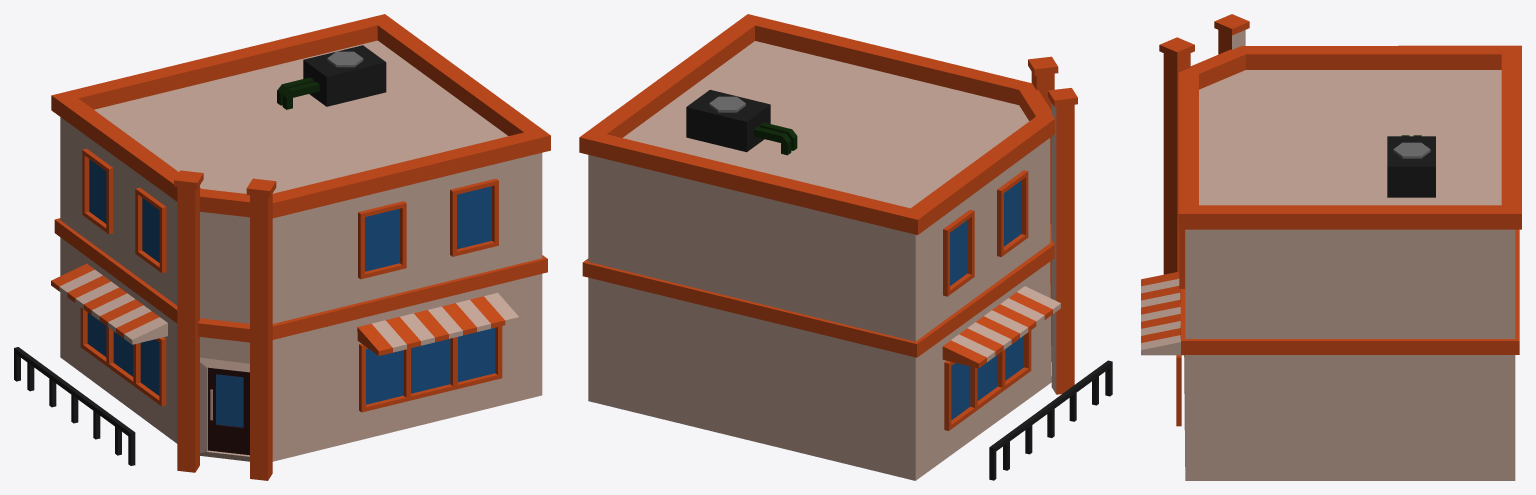
3 renders of one model, left to right at view 1: azimuth 30°, elevation 25°; view 2: azimuth 150°, elevation 25°; view 3: azimuth 270°, elevation 25°, orthographic. The views are drawn at different scales.
Visible parts, largest first — view 1: Plane.035, Plane.039; view 2: Plane.035, Plane.039; view 3: Plane.035.
Part boxes in pixels (x1,y1,x2,y2): Plane.035: (51, 14, 550, 480); Plane.039: (14, 347, 135, 465); Plane.035: (579, 14, 1077, 480); Plane.039: (989, 360, 1112, 480); Plane.035: (1141, 14, 1521, 480).
Bounding box in the file's own units: 1243 × 1017 × 888.
